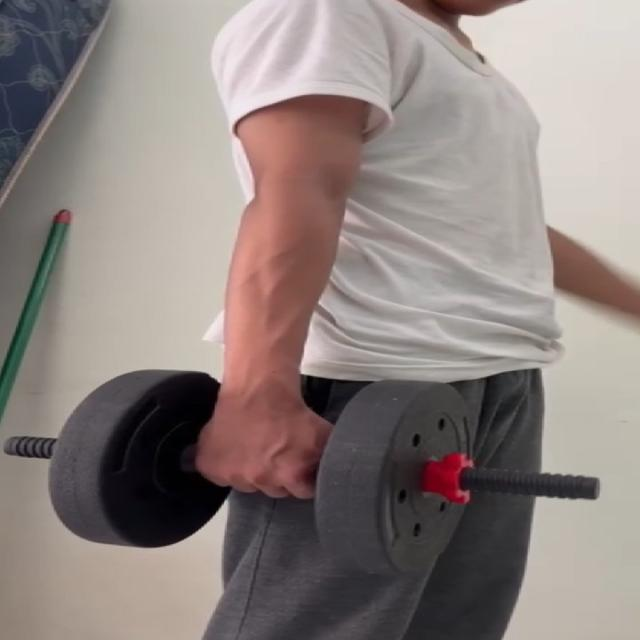hammer: (43, 367, 477, 577)
